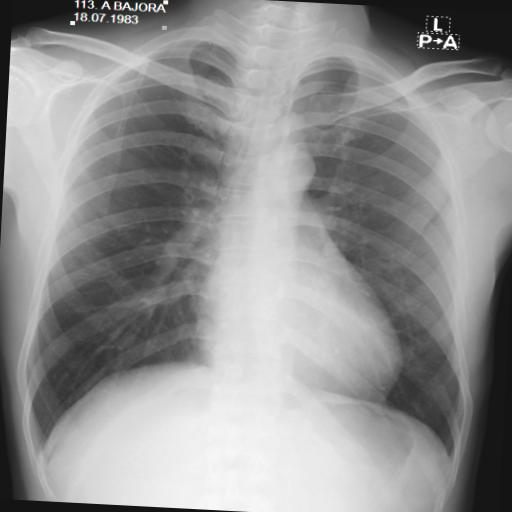normal: (15, 28, 496, 484)
